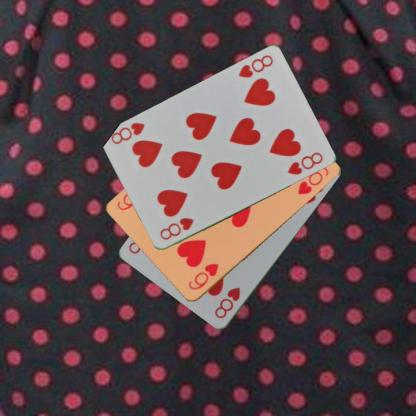6h: (186, 261, 220, 292)
8h: (235, 52, 275, 80), (212, 285, 243, 321), (157, 215, 195, 241)
